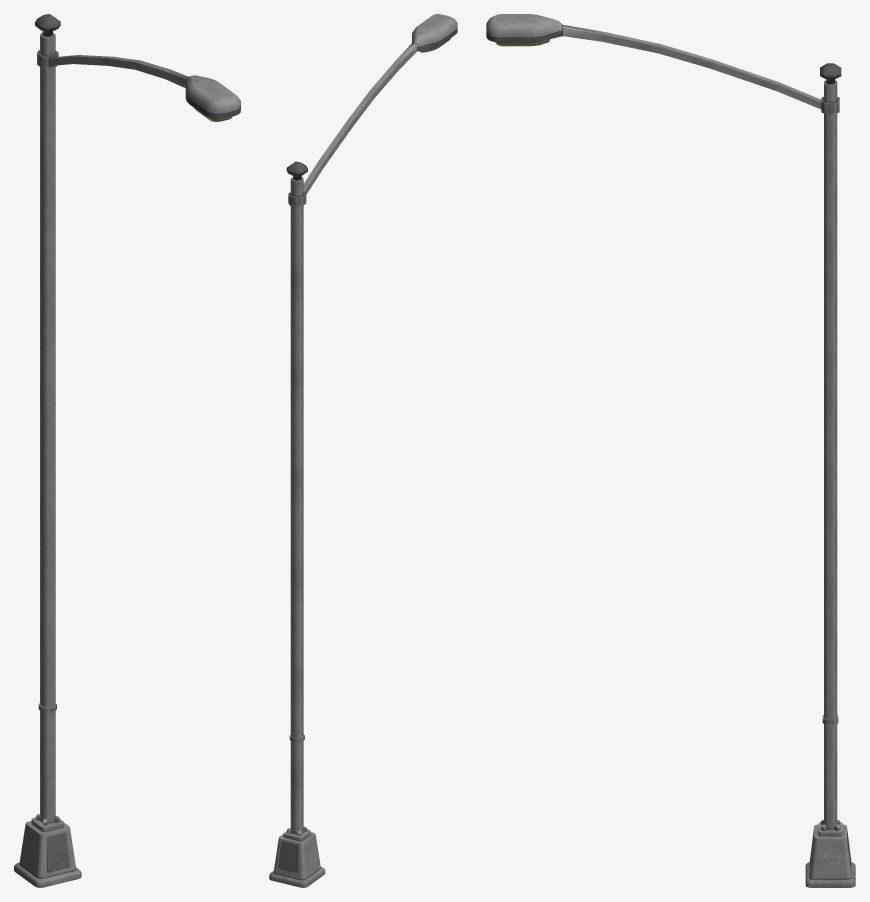
Rendered from Lamppost_01.fbx.
3 renders of one model, left to right at view 1: azimuth 30°, elevation 25°; view 2: azimuth 150°, elevation 25°; view 3: azimuth 270°, elevation 25°, orthographic. The views are drawn at different scales.
Parts seen in each view (by area): view 1: Lamppost_01_LOD0; view 2: Lamppost_01_LOD0; view 3: Lamppost_01_LOD0.
Boxes of the visible parts, left/top/right/bottom form: Lamppost_01_LOD0: left=14, top=14, right=240, bottom=887; Lamppost_01_LOD0: left=269, top=14, right=457, bottom=887; Lamppost_01_LOD0: left=486, top=14, right=855, bottom=887.
Size of what is drawn, in the model's own units: 34.05 by 644 by 251.
